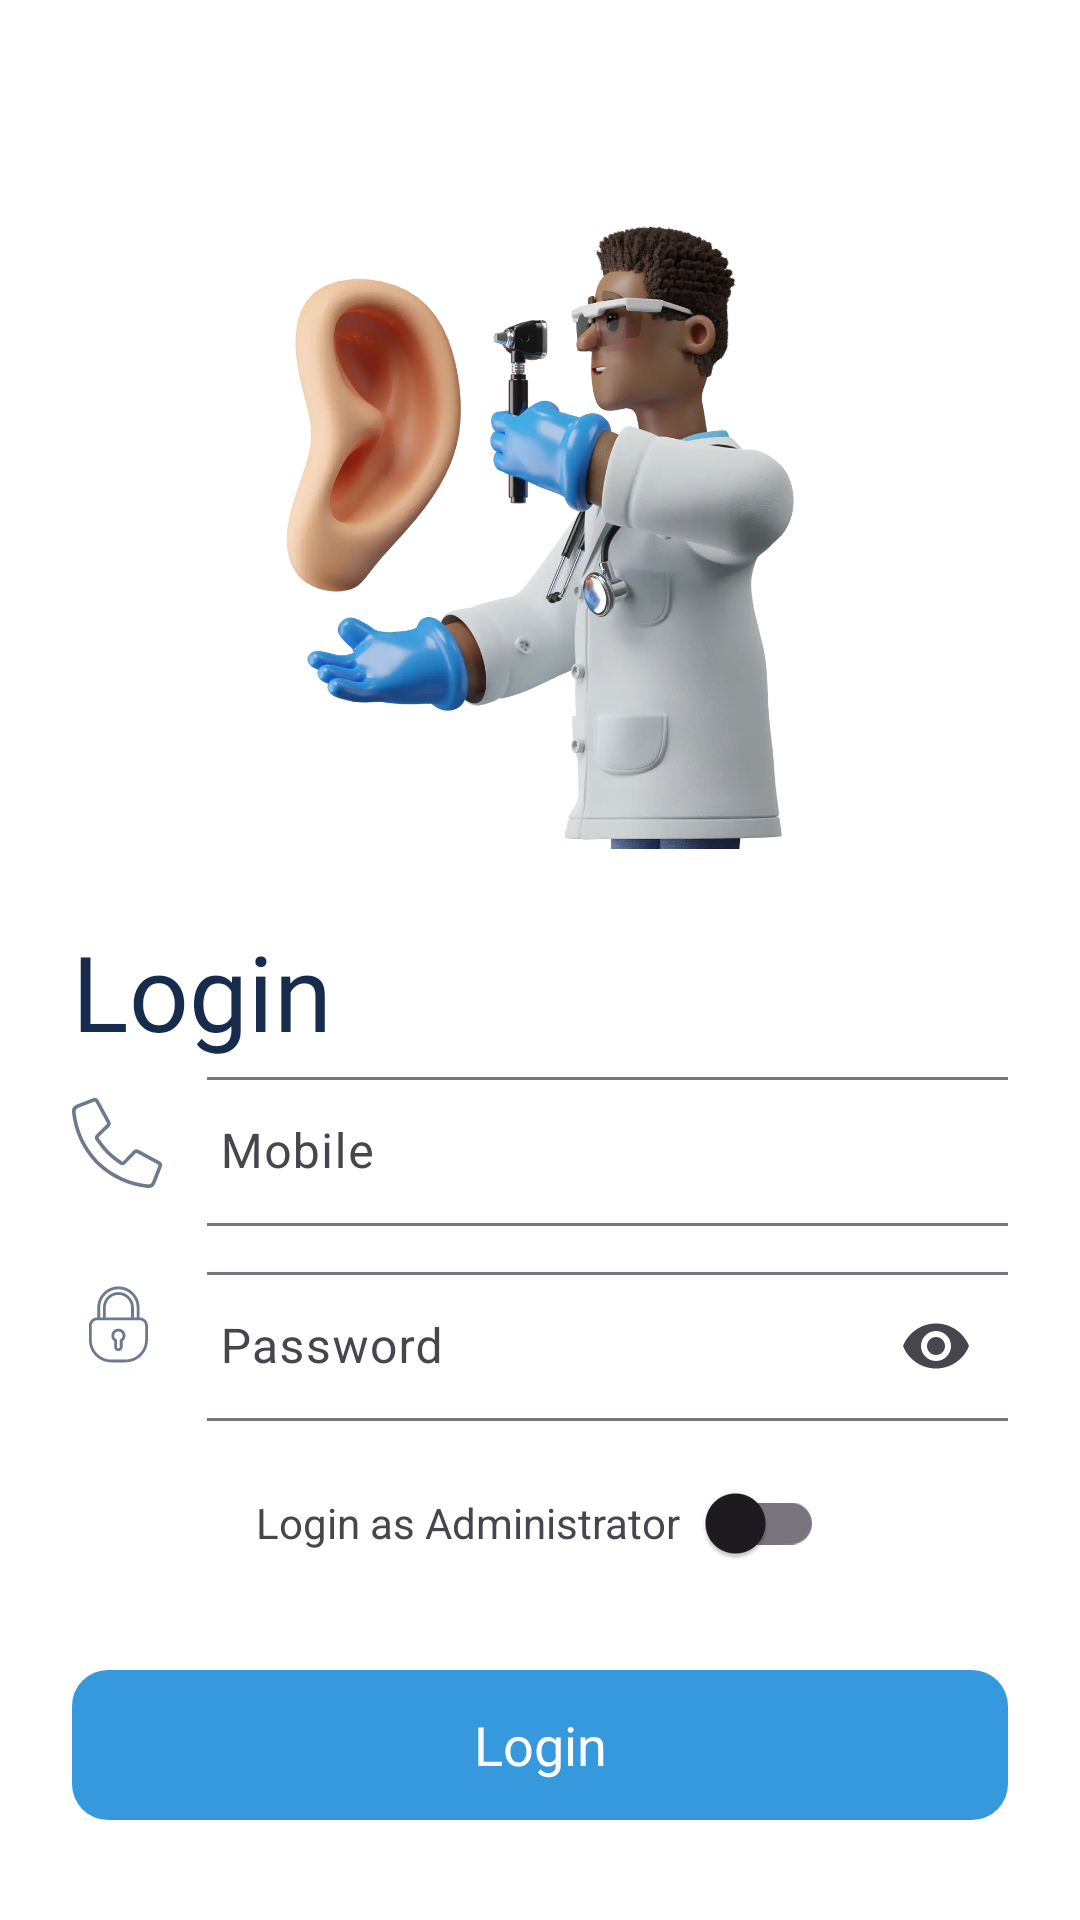

Where to tap for icons on this 1080 × 1920 app screen, as (x=x, y=y):
lock: (x=118, y=1324)
phone: (x=117, y=1143)
